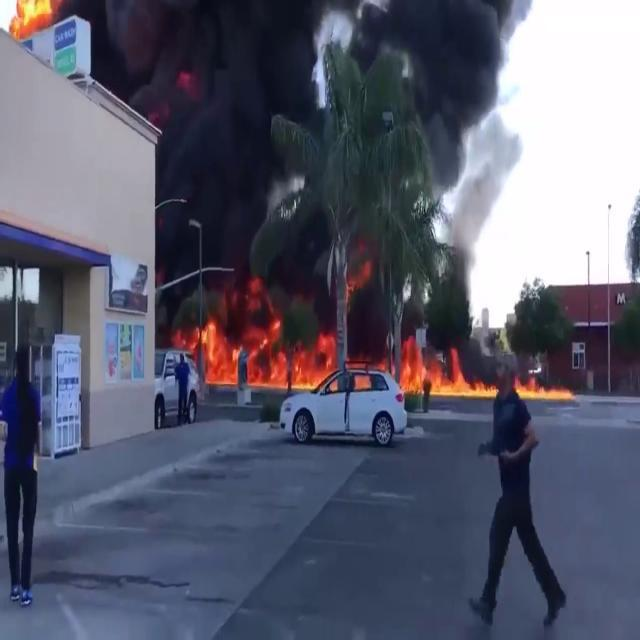Fire: (182, 304, 342, 394), (396, 342, 586, 400)
Smoke: (93, 1, 533, 322)
